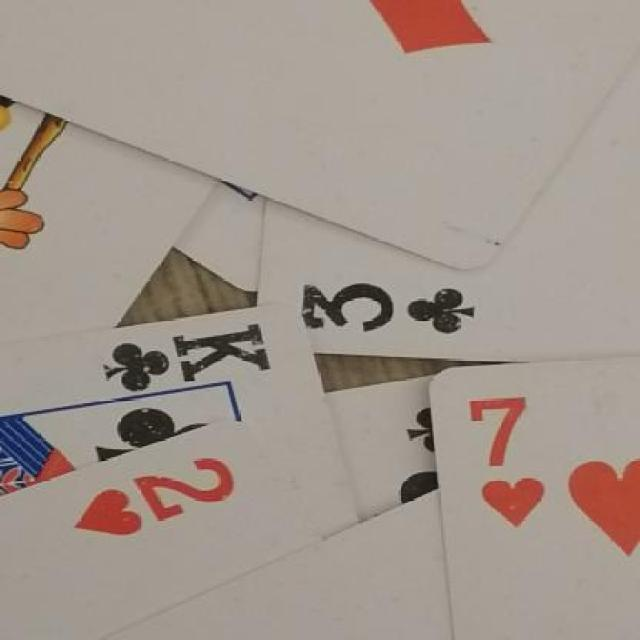2H: (64, 444, 284, 556)
3C: (282, 276, 500, 350)
7H: (452, 374, 583, 538)
KC: (73, 301, 293, 402)
